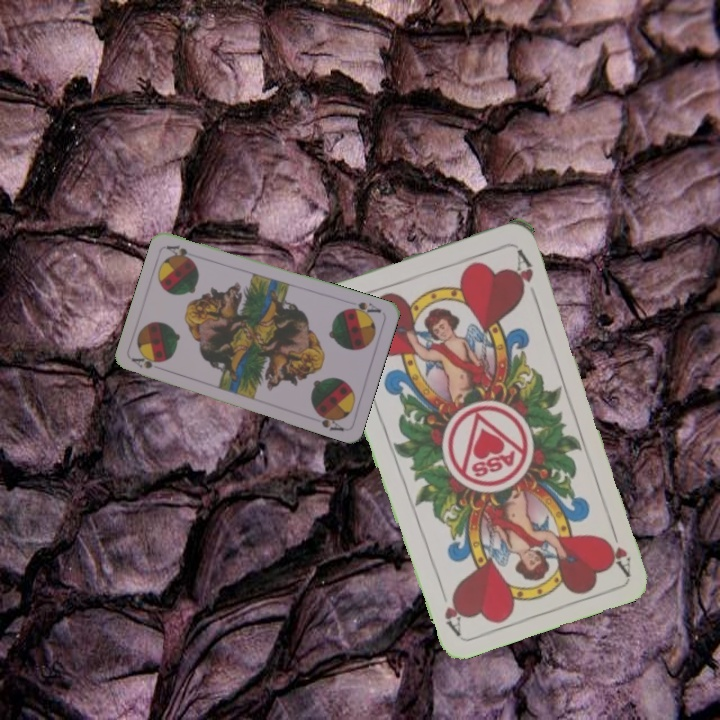HA: (603, 519, 634, 577)
SA: (343, 298, 384, 319), (128, 353, 164, 371)
